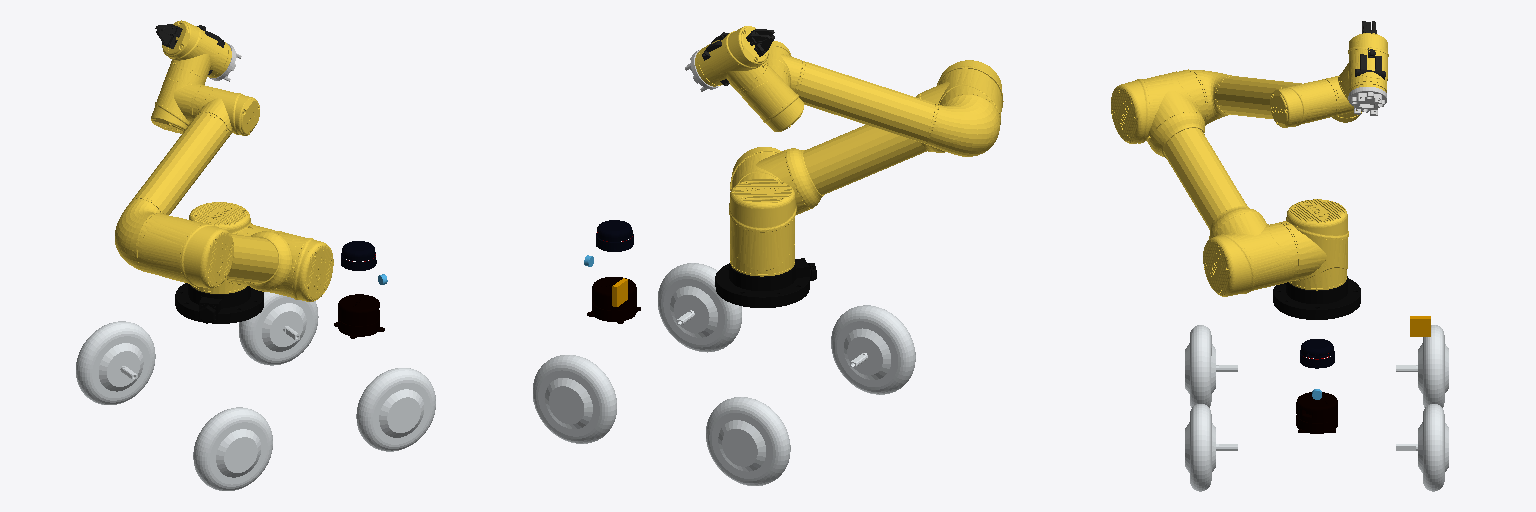
URDF robot description (car4wd):
<?xml version="1.0"?>
<robot
  name="car4wd">
  <link name="base_footprint"/>
  <link
    name="base_link">
    <inertial>
      <origin
        xyz="-0.00133489696806633 -0.000858065236190794 0.0742947770696504"
        rpy="0 0 0" />
      <mass
        value="16.922536366276" />
      <inertia
        ixx="0.280375488027476"
        ixy="-3.3746922545933E-05"
        ixz="0.00723948806637425"
        iyy="0.376422394252491"
        iyz="-0.00156225089406068"
        izz="0.379035593736401" />
    </inertial>
    <visual>
      <origin
        xyz="0 0 0"
        rpy="0 0 0" />
      <geometry>
        <mesh
          filename="package://car4wd/meshes/base_link.STL" />
      </geometry>
      <material
        name="">
        <color
          rgba="0.752941176470588 0.752941176470588 0.752941176470588 1" />
      </material>
    </visual>
    <collision>
      <origin
        xyz="0 0 0"
        rpy="0 0 0" />
      <geometry>
        <mesh
          filename="package://car4wd/meshes/base_link.STL" />
      </geometry>
    </collision>
  </link>
    <joint name="bash_link_joint" type="fixed">
        <axis rpy="0 0 0" xyz="0 0 0"/>
        <origin rpy="0 0 0" xyz="0 0 0"/>
        <parent link="base_footprint"/>
        <child link="base_link"/>
    </joint>
  <link
    name="1_Link">
    <inertial>
      <origin
        xyz="-0 0 0"
        rpy="0 0 0" />
      <mass
        value="2.61977729811143" />
      <inertia
        ixx="0"
        ixy="0"
        ixz="0"
        iyy="0"
        iyz="0"
        izz="0" />
    </inertial>
    <visual>
      <origin
        xyz="0 0 0"
        rpy="0 0 0" />
      <geometry>
        <mesh
          filename="package://car4wd/meshes/1_Link.STL" />
      </geometry>
      <material
        name="">
        <color
          rgba="0.898039215686275 0.917647058823529 0.929411764705882 1" />
      </material>
    </visual>
    <collision>
      <origin
        xyz="0 0 0"
        rpy="0 0 0" />
      <geometry>
        <mesh
          filename="package://car4wd/meshes/1_Link.STL" />
      </geometry>
    </collision>
  </link>
  <joint
    name="1"
    type="continuous">
    <origin
      xyz="-0.18 -0.152 0"
      rpy="0 1.5707963267949 3.14" />
    <parent
      link="base_link" />
    <child
      link="1_Link" />
    <axis
      xyz="0 -1 0" />
  </joint>
  <link
    name="2_Link">
    <inertial>
      <origin
        xyz="0 0 0"
        rpy="0 0 0" />
      <mass
        value="2.61977729811143" />
      <inertia
        ixx="0"
        ixy="0"
        ixz="0"
        iyy="0"
        iyz="0"
        izz="0" />
    </inertial>
    <visual>
      <origin
        xyz="0 0 0"
        rpy="0 0 0" />
      <geometry>
        <mesh
          filename="package://car4wd/meshes/2_Link.STL" />
      </geometry>
      <material
        name="">
        <color
          rgba="0.898039215686275 0.917647058823529 0.929411764705882 1" />
      </material>
    </visual>
    <collision>
      <origin
        xyz="0 0 0"
        rpy="0 0 0" />
      <geometry>
        <mesh
          filename="package://car4wd/meshes/2_Link.STL" />
      </geometry>
    </collision>
  </link>
  <joint
    name="2"
    type="continuous">
    <origin
      xyz="0.18 -0.152 0"
      rpy="3.14159265358979 1.5707963267949 0" />
    <parent
      link="base_link" />
    <child
      link="2_Link" />
    <axis
      xyz="0 -1 0" />
  </joint>
  <link
    name="3_Link">
    <inertial>
      <origin
        xyz="0 0 0"
        rpy="0 0 0" />
      <mass
        value="2.61977729811143" />
      <inertia
        ixx="0"
        ixy="0"
        ixz="0"
        iyy="0"
        iyz="0"
        izz="0" />
    </inertial>
    <visual>
      <origin
        xyz="0 0 0"
        rpy="0 0 0" />
      <geometry>
        <mesh
          filename="package://car4wd/meshes/3_Link.STL" />
      </geometry>
      <material
        name="">
        <color
          rgba="0.898039215686275 0.917647058823529 0.929411764705882 1" />
      </material>
    </visual>
    <collision>
      <origin
        xyz="0 0 0"
        rpy="0 0 0" />
      <geometry>
        <mesh
          filename="package://car4wd/meshes/3_Link.STL" />
      </geometry>
    </collision>
  </link>
  <joint
    name="3"
    type="continuous">
    <origin
      xyz="0.18 0.152 0"
      rpy="2.69705607354159E-16 -0.0054048692832654 -2.9284720911018E-15" />
    <parent
      link="base_link" />
    <child
      link="3_Link" />
    <axis
      xyz="0 1 0" />
  </joint>
  <link
    name="4_Link">
    <inertial>
      <origin
        xyz="0 0 0"
        rpy="0 0 0" />
      <mass
        value="2.61977729811143" />
      <inertia
        ixx="0"
        ixy="0"
        ixz="0"
        iyy="0"
        iyz="0"
        izz="0" />
    </inertial>
    <visual>
      <origin
        xyz="0 0 0"
        rpy="0 0 0" />
      <geometry>
        <mesh
          filename="package://car4wd/meshes/4_Link.STL" />
      </geometry>
      <material
        name="">
        <color
          rgba="0.898039215686275 0.917647058823529 0.929411764705882 1" />
      </material>
    </visual>
    <collision>
      <origin
        xyz="0 0 0"
        rpy="0 0 0" />
      <geometry>
        <mesh
          filename="package://car4wd/meshes/4_Link.STL" />
      </geometry>
    </collision>
  </link>
  <joint
    name="4"
    type="continuous">
    <origin
      xyz="-0.18 0.152 0"
      rpy="-3.14159265358974 1.5098214433719 -3.14159265358974" />
    <parent
      link="base_link" />
    <child
      link="4_Link" />
    <axis
      xyz="0 1 0" />
  </joint>
  <link
    name="laser_Link">
    <inertial>
      <origin
        xyz="-0.000209603421815946 0.000120725292981872 -0.00801987647485995"
        rpy="0 0 0" />
      <mass
        value="0.271699065752244" />
      <inertia
        ixx="0"
        ixy="0"
        ixz="0"
        iyy="0"
        iyz="0"
        izz="0" />
    </inertial>
    <visual>
      <origin
        xyz="0 0 0"
        rpy="0 0 0" />
      <geometry>
        <mesh
          filename="package://car4wd/meshes/laser_Link.STL" />
      </geometry>
      <material
        name="">
        <color
          rgba="0.0588235294117647 0.00784313725490196 0 1" />
      </material>
    </visual>
    <collision>
      <origin
        xyz="0 0 0"
        rpy="0 0 0" />
      <geometry>
        <mesh
          filename="package://car4wd/meshes/laser_Link.STL" />
      </geometry>
    </collision>
  </link>
  <joint
    name="laser"
    type="fixed">
    <origin
      xyz="0.228 0 0.105"
      rpy="0 0 0" />
    <parent
      link="base_link" />
    <child
      link="laser_Link" />
    <axis
      xyz="0 0 0" />
  </joint>
<link name="rplidar">
        <inertial>
            <mass value="1e-5"/>
            <origin rpy="0 0 0" xyz="0 0 0"/>
            <inertia ixx="1e-6" ixy="0" ixz="0" iyy="1e-6" iyz="0" izz="1e-6"/>
        </inertial>
        <visual>
            <origin rpy="0 0 0" xyz="0 0 0"/>
            <geometry>
                <mesh filename="package://car4wd/meshes/rplidar.dae"/>
            </geometry>
            <material name="blue"/>
        </visual>
        <collision>
            <origin rpy="0 0 0" xyz="0 0 0"/>
            <geometry>
                <mesh filename="package://car4wd/meshes/rplidar.dae"/> 
            </geometry>
        </collision>
    </link>
    <joint name="rplidar_joint" type="fixed">
        <axis xyz="0 1 0"/>
        <origin xyz="0.228 0.0 0.225"/>
        <parent link="base_link"/>
        <child link="rplidar"/>
    </joint>

 <joint name="base_to_camera_joint" type="fixed">
            <parent link="base_link"/>
            <child link="usb_camera_link"/>
            <origin xyz="0.1 0.2 0.22" rpy="0 0 0" /> 
       </joint>

       <link name="usb_camera_link">
            <inertial>
                <mass value="0.1" />
                <origin xyz="0 0 0" />
                <inertia ixx="0.01" ixy="0.0" ixz="0.0"
                         iyy="0.01" iyz="0.0"
                         izz="0.01" />
            </inertial>

            <visual>
                <origin xyz=" 0 0 0 " rpy="0 0 0" />
                <geometry>
                    <box size="0.01 0.04 0.04" />
                </geometry>
                <material name="Black"/>
            </visual>

            <collision>
                <origin xyz="0.0 0.0 0.0" rpy="0 0 0" />
                <geometry>
                    <box size="0.01 0.04 0.04" />
                </geometry>
            </collision>
        </link>
 <link name="left_sonar">
      <visual>
        <origin xyz="0 0 0" rpy="0 1.57 0"/>
        <geometry>
          <cylinder length="0.01" radius="0.01"/>
        </geometry>
      </visual>
      <collision>
        <origin xyz="0 0 0" rpy="0 0 0"/>
        <geometry>
          <cylinder length="0.01" radius="0.01"/>
        </geometry>
      </collision>
            <collision>
                <origin xyz="0.0 0.0 0.0" rpy="0 0 0" />
                <geometry>
                    <box size="0.01 0.04 0.04" />
                </geometry>
            </collision>
        </link>
 
    <joint name="left_sonar_joint" type="fixed">
        <origin xyz="0.28 0 0.16" rpy="0 0 0"/>
        <parent link="base_link"/>
        <child link="left_sonar"/>
    </joint>        

 <link
    name="Link0">
    <inertial>
      <origin
        xyz="-0.001129 -0.0011291 0.01627"
        rpy="0 0 0" />
      <mass
        value="0.56333" />
      <inertia
        ixx="0.0011675"
        ixy="-4.7974E-05"
        ixz="1.3554E-05"
        iyy="0.0011675"
        iyz="1.3555E-05"
        izz="0.0021663" />
    </inertial>
    <visual>
      <origin
        xyz="0 0 0"
        rpy="0 0 0" />
      <geometry>
        <mesh
          filename="package://car4wd/meshes/Link0.STL" />
      </geometry>
      <material
        name="">
        <color
          rgba="0.066 0.066 0.066 1" />
      </material>
    </visual>
    <collision>
      <origin
        xyz="0 0 0"
        rpy="0 0 0" />
      <geometry>
        <mesh
          filename="package://car4wd/meshes/Link0.STL" />
      </geometry>
    </collision>
  </link>
<joint
    name="joint0"
    type="fixed">
    <origin
      xyz="-0.08 0 0.19"
      rpy="0 0 0" />
    <parent
      link="base_link" />
    <child
      link="Link0" />
    <axis
      xyz="0 0 0" />
  </joint>
  <link
    name="Link1">
    <inertial>
      <origin
        xyz="-8.6106E-07 0.051658 0.0053845"
        rpy="0 0 0" />
      <mass
        value="1.5667" />
      <inertia
        ixx="0.0039893"
        ixy="7.7306E-08"
        ixz="-5.125E-08"
        iyy="0.0030665"
        iyz="-0.00016458"
        izz="0.003855" />
    </inertial>
    <visual>
      <origin
        xyz="0 0 0"
        rpy="0 0 0" />
      <geometry>
        <mesh
          filename="package://car4wd/meshes/Link1.STL" />
      </geometry>
      <material
        name="">
        <color
          rgba="0.9529 0.823 0.313 1" />
      </material>
    </visual>
    <collision>
      <origin
        xyz="0 0 0"
        rpy="0 0 0" />
      <geometry>
        <mesh
          filename="package://car4wd/meshes/Link1.STL" />
      </geometry>
    </collision>
  </link>
  <joint
    name="joint1"
    type="fixed">
    <origin
      xyz="0 0 0.0607"
      rpy="1.5708 0 0.50479" />
    <parent
      link="Link0" />
    <child
      link="Link1" />
    <axis
      xyz="0 0 0" />
  </joint>
  <link
    name="Link2">
    <inertial>
      <origin
        xyz="-5.5102E-09 0.054334 0.204"
        rpy="0 0 0" />
      <mass
        value="4.0222" />
      <inertia
        ixx="0.144"
        ixy="-7.9038E-09"
        ixz="-7.1756E-07"
        iyy="0.14175"
        iyz="-3.5278E-08"
        izz="0.009481" />
    </inertial>
    <visual>
      <origin
        xyz="0 0 0"
        rpy="0 0 0" />
      <geometry>
        <mesh
          filename="package://car4wd/meshes/Link2.STL" />
      </geometry>
      <material
        name="">
        <color
          rgba="0.9529 0.823 0.313 1" />
      </material>
    </visual>
    <collision>
      <origin
        xyz="0 0 0"
        rpy="0 0 0" />
      <geometry>
        <mesh
          filename="package://car4wd/meshes/Link2.STL" />
      </geometry>
    </collision>
  </link>
  <joint
    name="joint2"
    type="fixed">
    <origin
      xyz="0 0.061 0.0795"
      rpy="1.5708 0 -2.0143" />
    <parent
      link="Link1" />
    <child
      link="Link2" />
    <axis
      xyz="0 0 0" />
  </joint>
  <link
    name="Link3">
    <inertial>
      <origin
        xyz="1.1466E-06 0.019915 -0.69278"
        rpy="0 0 0" />
      <mass
        value="2.2398" />
      <inertia
        ixx="0.043212"
        ixy="-3.5377E-08"
        ixz="-4.156E-07"
        iyy="0.042985"
        iyz="-0.0022331"
        izz="0.0020858" />
    </inertial>
    <visual>
      <origin
        xyz="0 0 0"
        rpy="0 0 0" />
      <geometry>
        <mesh
          filename="package://car4wd/meshes/Link3.STL" />
      </geometry>
      <material
        name="">
        <color
          rgba="0.9529 0.823 0.313 1" />
      </material>
    </visual>
    <collision>
      <origin
        xyz="0 0 0"
        rpy="0 0 0" />
      <geometry>
        <mesh
          filename="package://car4wd/meshes/Link3.STL" />
      </geometry>
    </collision>
  </link>
  <joint
    name="joint3"
    type="fixed">
    <origin
      xyz="0.35613 -0.0795 0.76816"
      rpy="0 0.77976 0" />
    <parent
      link="Link2" />
    <child
      link="Link3" />
    <axis
      xyz="0 0 0" />
  </joint>
  <link
    name="Link4">
    <inertial>
      <origin
        xyz="4.6902E-07 0.0041877 -0.033733"
        rpy="0 0 0" />
      <mass
        value="0.46883" />
      <inertia
        ixx="0.00058204"
        ixy="-9.4123E-09"
        ixz="-5.7631E-10"
        iyy="0.00055621"
        iyz="3.0952E-05"
        izz="0.00038659" />
    </inertial>
    <visual>
      <origin
        xyz="0 0 0"
        rpy="0 0 0" />
      <geometry>
        <mesh
          filename="package://car4wd/meshes/Link4.STL" />
      </geometry>
      <material
        name="">
        <color
          rgba="0.9529 0.823 0.313 1" />
      </material>
    </visual>
    <collision>
      <origin
        xyz="0 0 0"
        rpy="0 0 0" />
      <geometry>
        <mesh
          filename="package://car4wd/meshes/Link4.STL" />
      </geometry>
    </collision>
  </link>
  <joint
    name="joint4"
    type="fixed">
    <origin
      xyz="-0.022445 -0.0835 -0.92034"
      rpy="-3.1416 -0.53531 3.1416" />
    <parent
      link="Link3" />
    <child
      link="Link4" />
    <axis
      xyz="0 0 0" />
  </joint>
  <link
    name="Link5">
    <inertial>
      <origin
        xyz="7.2432E-07 0.0041878 -0.033733"
        rpy="0 0 0" />
      <mass
        value="0.46884" />
      <inertia
        ixx="0.00058205"
        ixy="-1.2007E-08"
        ixz="-1.8329E-10"
        iyy="0.00055621"
        iyz="3.0955E-05"
        izz="0.00038659" />
    </inertial>
    <visual>
      <origin
        xyz="0 0 0"
        rpy="0 0 0" />
      <geometry>
        <mesh
          filename="package://car4wd/meshes/Link5.STL" />
      </geometry>
      <material
        name="">
        <color
          rgba="0.9529 0.823 0.313 1" />
      </material>
    </visual>
    <collision>
      <origin
        xyz="0 0 0"
        rpy="0 0 0" />
      <geometry>
        <mesh
          filename="package://car4wd/meshes/Link5.STL" />
      </geometry>
    </collision>
  </link>
  <joint
    name="joint5"
    type="fixed">
    <origin
      xyz="-0.040387 0.017461 0.0585"
      rpy="-1.5708 0 1.1627" />
    <parent
      link="Link4" />
    <child
      link="Link5" />
    <axis
      xyz="0 0 0" />
  </joint>
  <link
    name="Link6">
    <inertial>
      <origin
        xyz="6.9389E-18 0.010011 -2.7756E-17"
        rpy="0 0 0" />
      <mass
        value="0.043466" />
      <inertia
        ixx="1.6279E-05"
        ixy="6.7763E-21"
        ixz="-1.2705E-21"
        iyy="3.1588E-05"
        iyz="-7.6233E-21"
        izz="1.8238E-05" />
    </inertial>
    <visual>
      <origin
        xyz="0 0 0"
        rpy="0 0 0" />
      <geometry>
        <mesh
          filename="package://car4wd/meshes/Link6.STL" />
      </geometry>
      <material
        name="">
        <color
          rgba="0.827 0.827 0.827 1" />
      </material>
    </visual>
    <collision>
      <origin
        xyz="0 0 0"
        rpy="0 0 0" />
      <geometry>
        <mesh
          filename="package://car4wd/meshes/Link6.STL" />
      </geometry>
    </collision>
  </link>
  <joint
    name="joint6"
    type="fixed">
    <origin
      xyz="0 0 0.0165"
      rpy="1.5708 0 1.7252" />
    <parent
      link="Link5" />
    <child
      link="Link6" />
    <axis
      xyz="0 0 0" />
  </joint>
  <link
    name="Link_grip">
    <inertial>
      <origin
        xyz="0.00025657 1.1387E-05 0.072949"
        rpy="0 0 0" />
      <mass
        value="0.36205" />
      <inertia
        ixx="0.00059204"
        ixy="-6.3398E-08"
        ixz="3.1052E-06"
        iyy="0.0004994"
        iyz="-1.0655E-06"
        izz="0.00019612" />
    </inertial>
    <visual>
      <origin
        xyz="0 0 0"
        rpy="0 0 0" />
      <geometry>
        <mesh
          filename="package://car4wd/meshes/Link_grip.STL" />
      </geometry>
      <material
        name="">
        <color
          rgba="0.168 0.168 0.168 1" />
      </material>
    </visual>
    <collision>
      <origin
        xyz="0 0 0"
        rpy="0 0 0" />
      <geometry>
        <mesh
          filename="package://car4wd/meshes/Link_grip.STL" />
      </geometry>
    </collision>
  </link>
  <joint
    name="joint_grip"
    type="fixed">
    <origin
      xyz="0 0.0016 0"
      rpy="1.5708 -1.5708 0" />
    <parent
      link="Link6" />
    <child
      link="Link_grip" />
    <axis
      xyz="0 0 0" />
  </joint>
 

</robot>

--- Render facts (derived) ---
Views: 3 orthographic renders of the robot side by side, from view 1: azimuth 30°, elevation 25°; view 2: azimuth 150°, elevation 25°; view 3: azimuth 270°, elevation 25°.
Robot: car4wd — 18 links, 17 joints (4 continuous, 13 fixed); root link base_footprint; default pose: every joint at zero.
Links seen in each view (by area): view 1: Link2, Link3, 1_Link, 4_Link, 2_Link, 3_Link, Link0, Link5, Link4, Link1, laser_Link, rplidar (+1 smaller); view 2: Link2, Link3, Link1, 1_Link, 4_Link, 3_Link, 2_Link, Link0, Link5, Link4, laser_Link, rplidar (+1 smaller); view 3: Link2, Link3, Link1, Link0, 2_Link, 3_Link, 1_Link, 4_Link, Link5, laser_Link, rplidar, Link6 (+2 smaller).
Link boxes in pixels (x1=…): Link2: x1=136, y1=213, x2=333, y2=301; Link3: x1=115, y1=85, x2=259, y2=269; 1_Link: x1=193, y1=407, x2=272, y2=490; 4_Link: x1=76, y1=321, x2=155, y2=404; 2_Link: x1=356, y1=368, x2=435, y2=451; 3_Link: x1=239, y1=292, x2=318, y2=365; Link0: x1=175, y1=283, x2=263, y2=323; Link5: x1=162, y1=20, x2=231, y2=78; Link4: x1=151, y1=65, x2=205, y2=133; Link1: x1=189, y1=202, x2=255, y2=293; laser_Link: x1=334, y1=294, x2=384, y2=338; rplidar: x1=341, y1=241, x2=376, y2=270; Link2: x1=730, y1=60, x2=1003, y2=214; Link3: x1=766, y1=41, x2=999, y2=156; Link1: x1=729, y1=179, x2=796, y2=276; 1_Link: x1=831, y1=305, x2=915, y2=394; 4_Link: x1=706, y1=397, x2=790, y2=485; 3_Link: x1=533, y1=355, x2=616, y2=443; 2_Link: x1=658, y1=263, x2=741, y2=352; Link0: x1=715, y1=258, x2=816, y2=307; Link5: x1=695, y1=26, x2=768, y2=89; Link4: x1=735, y1=62, x2=804, y2=131; laser_Link: x1=587, y1=277, x2=640, y2=323; rplidar: x1=596, y1=220, x2=633, y2=251; Link2: x1=1111, y1=70, x2=1299, y2=296; Link3: x1=1188, y1=69, x2=1338, y2=127; Link1: x1=1282, y1=199, x2=1348, y2=290; Link0: x1=1273, y1=276, x2=1360, y2=319; 2_Link: x1=1185, y1=404, x2=1237, y2=491; 3_Link: x1=1396, y1=404, x2=1448, y2=491; 1_Link: x1=1185, y1=325, x2=1237, y2=407; 4_Link: x1=1396, y1=325, x2=1448, y2=407; Link5: x1=1342, y1=33, x2=1388, y2=92; laser_Link: x1=1296, y1=392, x2=1337, y2=433; rplidar: x1=1300, y1=339, x2=1334, y2=368; Link6: x1=1348, y1=87, x2=1386, y2=115.
Bounding box of the posed robot: 0.7155 × 0.6536 × 0.8401 m (x, y, z).
14 mesh visuals loaded from 15 distinct referenced files (13 binary STL, 1 Collada DAE); not drawn: 1 (reference not matched to a file when rendering).